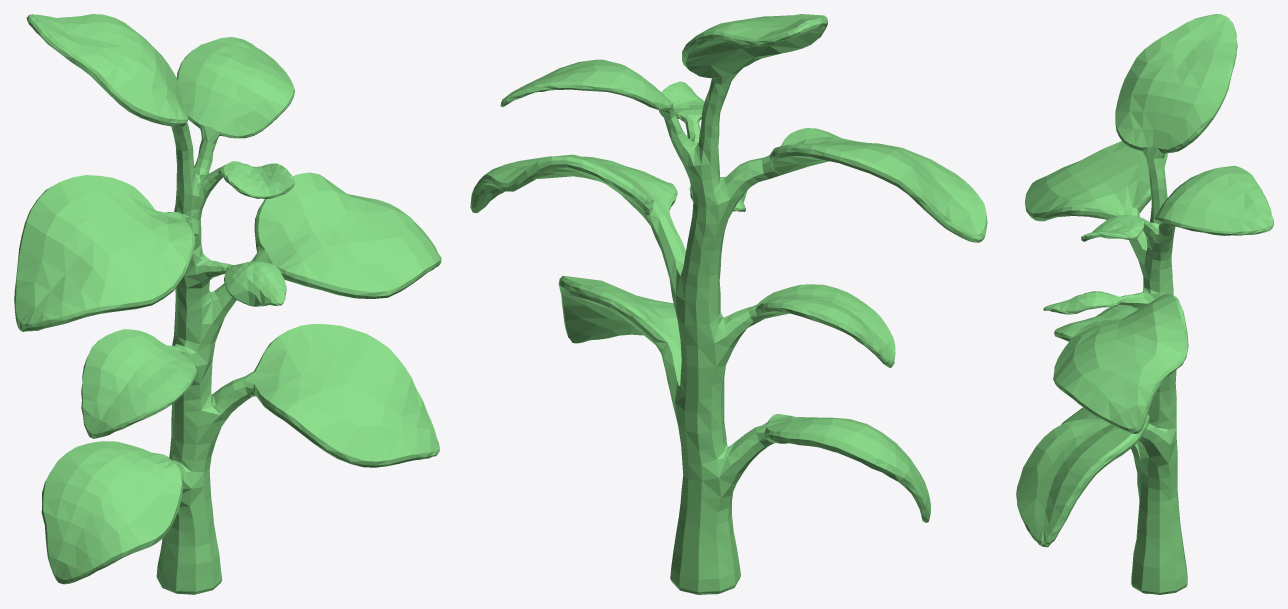
File: crop_imo2.glb
3 views of the same model, side by side, from view 1: azimuth 30°, elevation 25°; view 2: azimuth 150°, elevation 25°; view 3: azimuth 270°, elevation 25° (orthographic). The views are drawn at different scales.
Visible parts, largest first — view 1: leaf; view 2: leaf; view 3: leaf.
Part boxes in pixels (left/top/right/bottom): leaf: left=14, top=14, right=441, bottom=594; leaf: left=470, top=14, right=987, bottom=594; leaf: left=1016, top=14, right=1273, bottom=594.
Bounding box in the file's own units: 0.2241 × 0.2773 × 0.1255.
